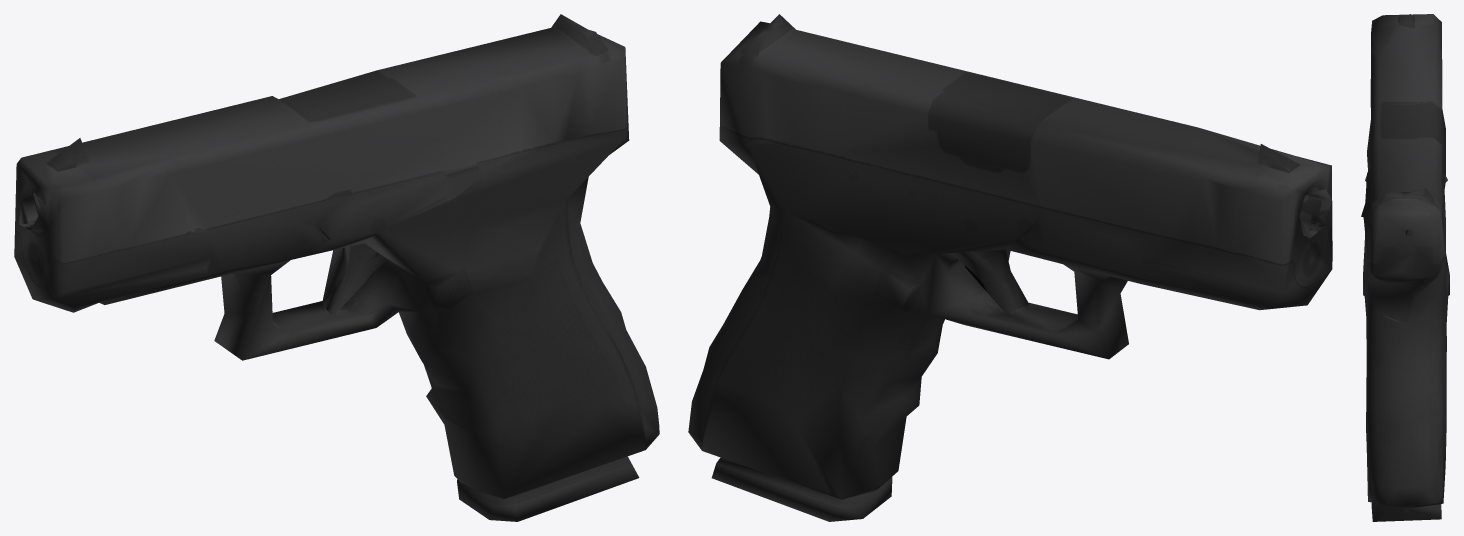
File: arma.glb
3 renders of one model, left to right at view 1: azimuth 30°, elevation 25°; view 2: azimuth 150°, elevation 25°; view 3: azimuth 270°, elevation 25°, orthographic. The views are drawn at different scales.
Visible parts, largest first — view 1: Mesh1.0; view 2: Mesh1.0; view 3: Mesh1.0.
Boxes of the visible parts, x1=… form: Mesh1.0: x1=14, y1=14, x2=659, y2=521; Mesh1.0: x1=688, y1=14, x2=1332, y2=521; Mesh1.0: x1=1361, y1=14, x2=1449, y2=521.
Bounding box in the file's own units: 1.89 × 1.35 × 0.3279.
1 material, 1 textured.
